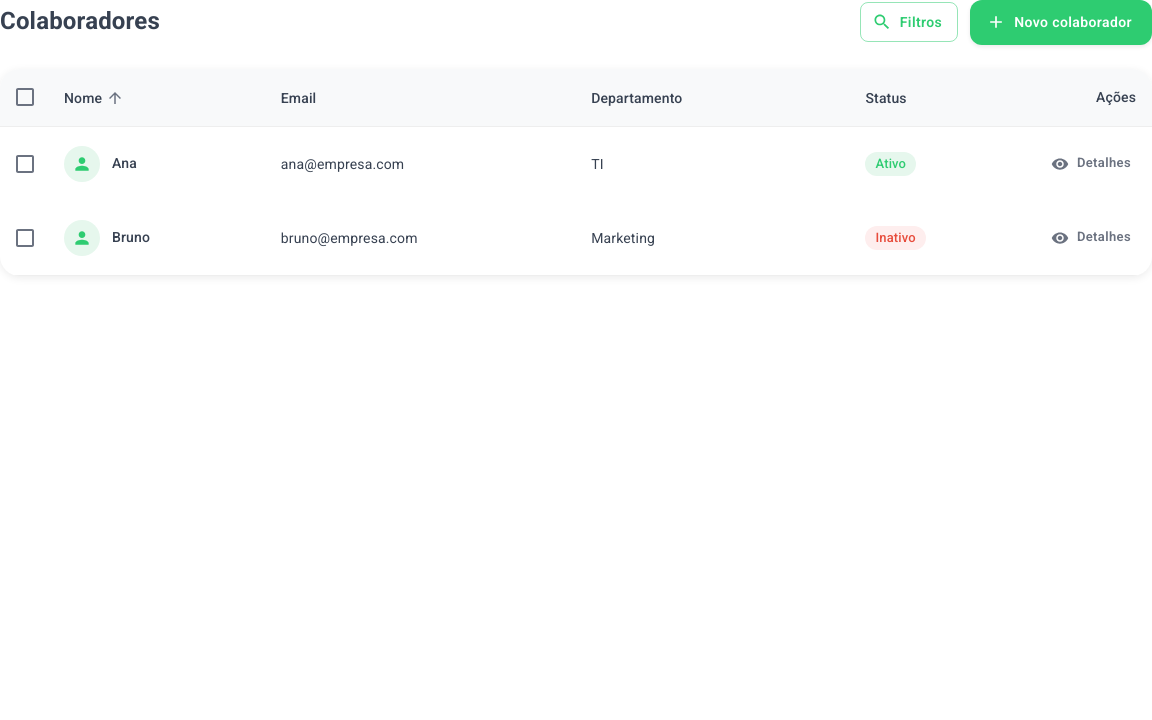
Test: ColaboradoresPage (widget) › exclui colaboradores selecionados via fluxo de confirmação
Expected: the text "Ana" is shown, [112, 153, 137, 174]
Click the checkbox named "selecionar Ana" at (25, 164), box [13, 152, 37, 176]
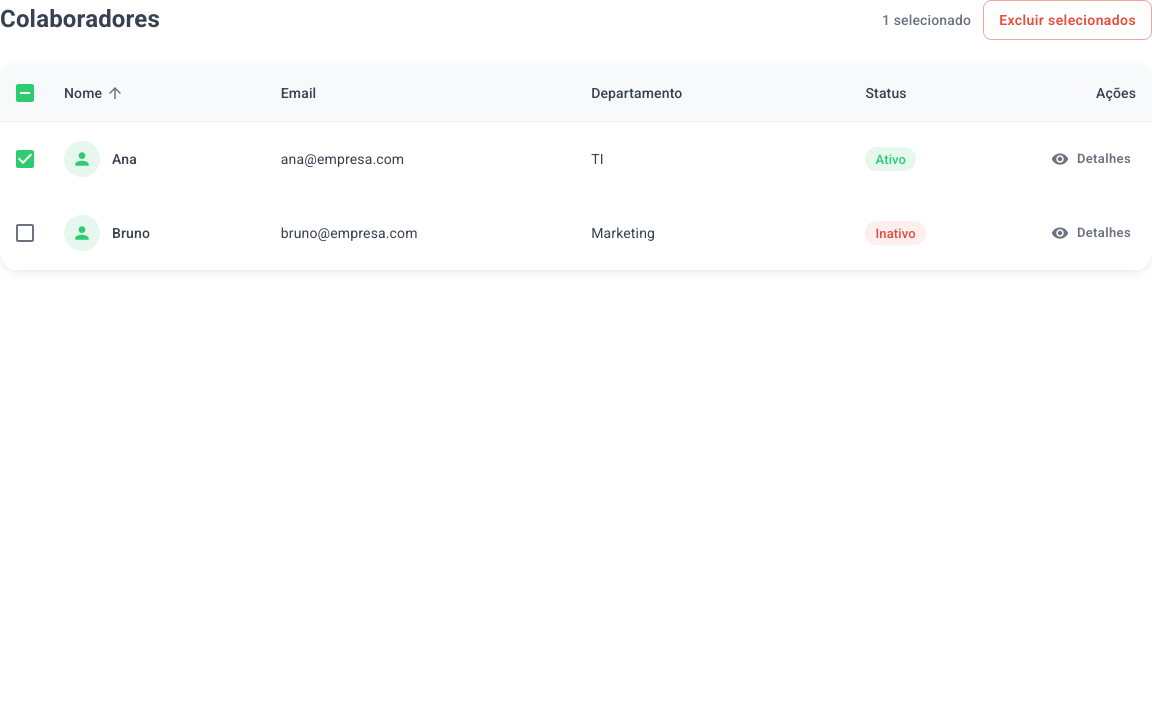
Click the checkbox named "selecionar Bruno" at (25, 233), box [13, 221, 37, 245]
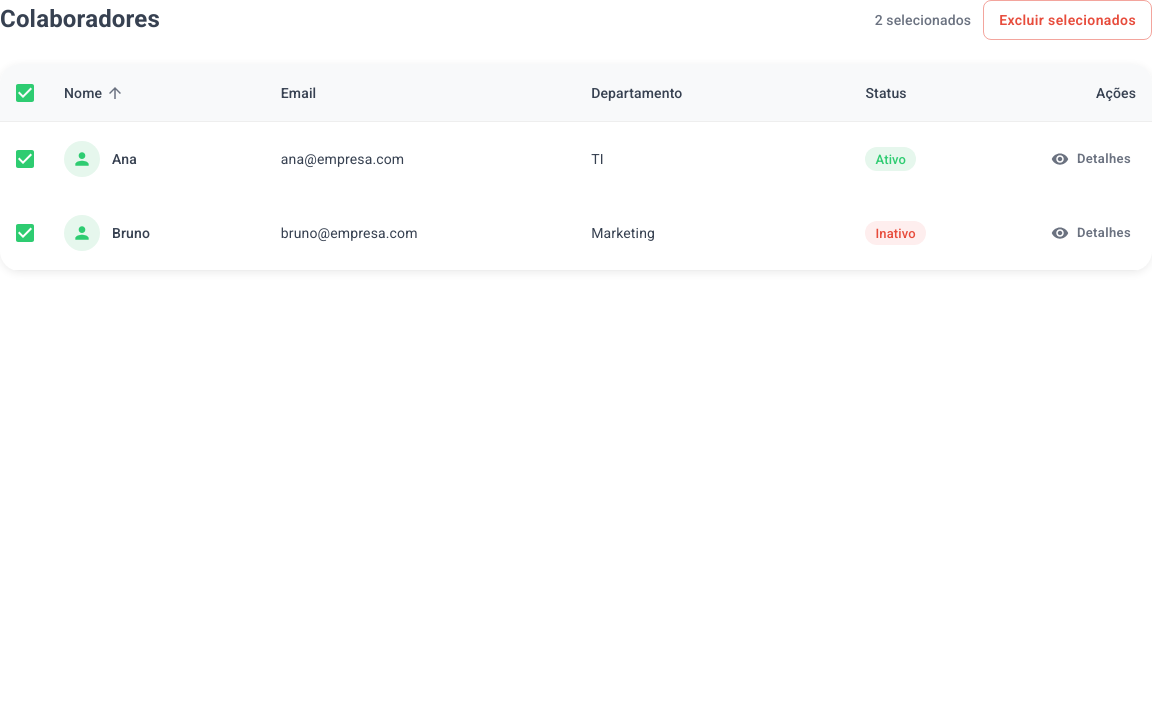
Click the button "Excluir selecionados" at (1068, 20), box [983, 0, 1151, 40]
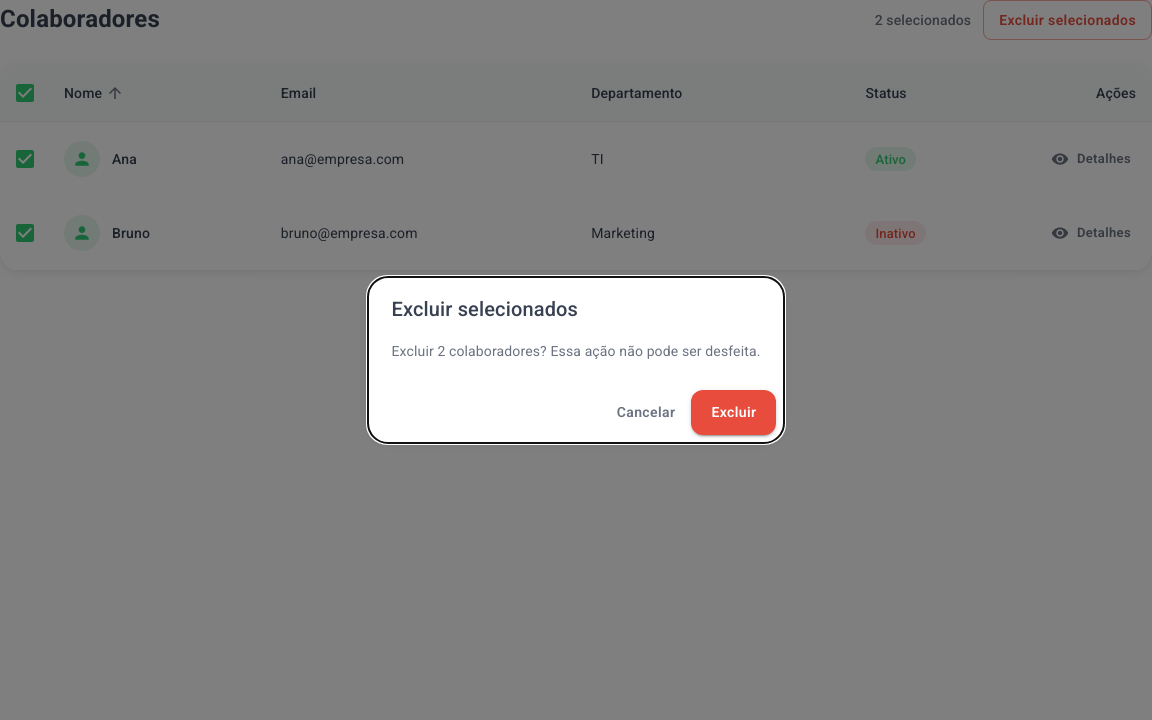
Expected: the text "Excluir 2 colaboradores? Essa ação não pode ser desfeita." is shown, [392, 341, 760, 362]
Click the button "Excluir" at (734, 413), box [691, 390, 776, 435]
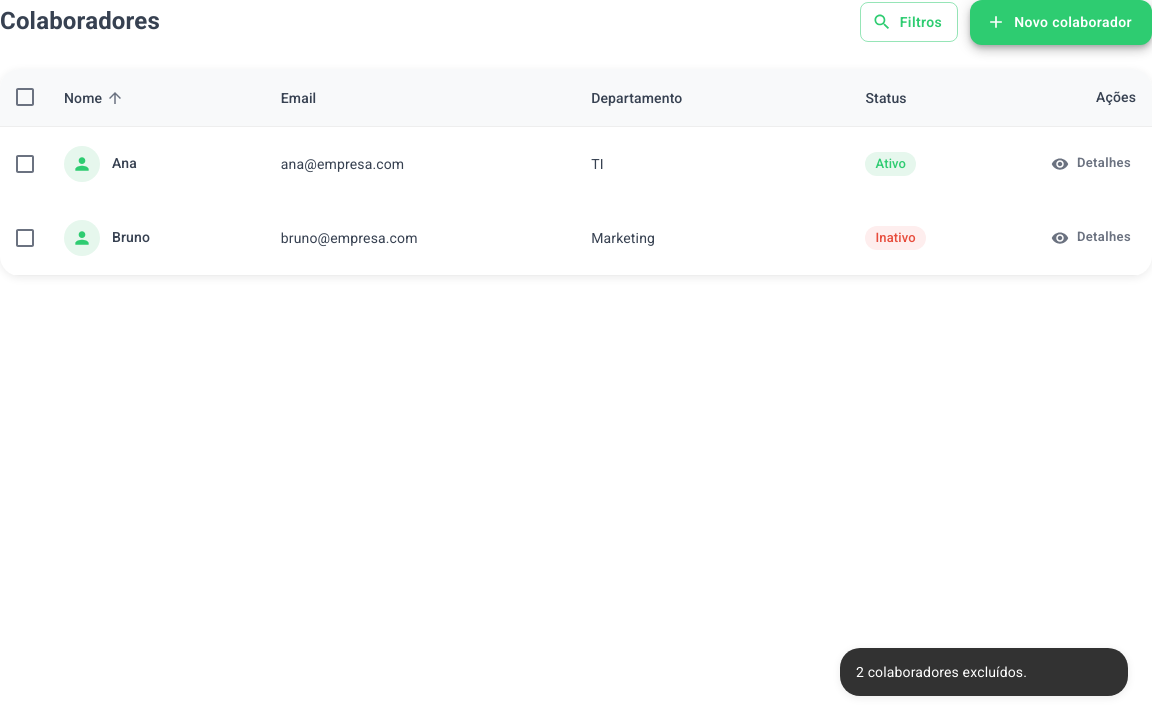
Expected: the text "2 colaboradores excluídos." is shown, [856, 664, 1027, 680]
